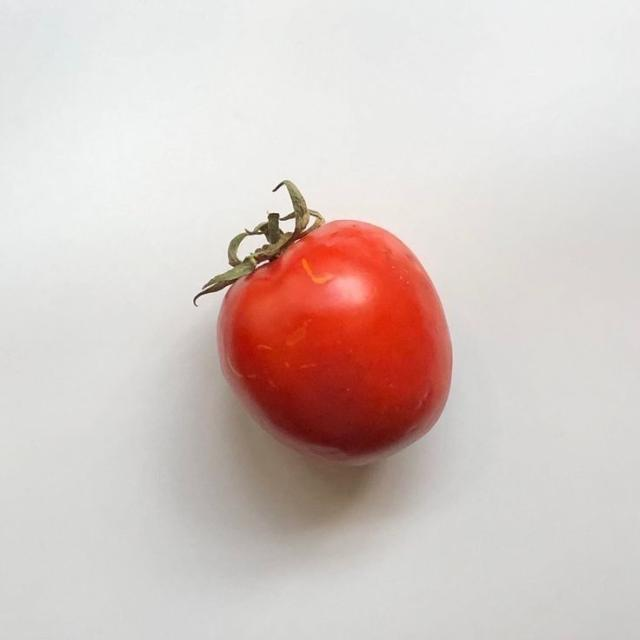tomato: (218, 220, 452, 464)
